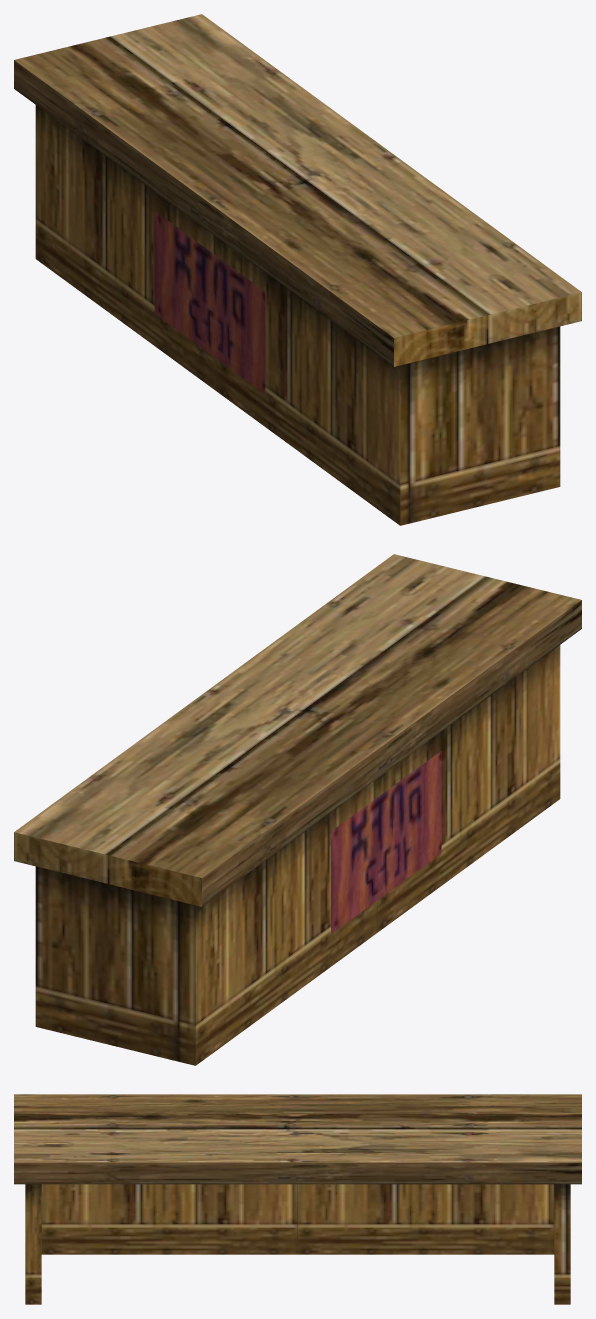
Rendered from MesaCaja.obj.
3 renders of one model, top to bottom at view 1: azimuth 30°, elevation 25°; view 2: azimuth 150°, elevation 25°; view 3: azimuth 270°, elevation 25°, orthographic. The views are drawn at different scales.
Visible parts, largest first — view 1: clocktown_main.002_geom-03D75826.002_material-0392649D, clocktown_main.002_geom-03D75826.002_material-00258989, clocktown_main.002_geom-03D75826.002_material-03DC13CA, clocktown_main.002_geom-03D75826.002_material-0151D5D9; view 2: clocktown_main.002_geom-03D75826.002_material-0392649D, clocktown_main.002_geom-03D75826.002_material-00258989, clocktown_main.002_geom-03D75826.002_material-03DC13CA, clocktown_main.002_geom-03D75826.002_material-0151D5D9; view 3: clocktown_main.002_geom-03D75826.002_material-0392649D, clocktown_main.002_geom-03D75826.002_material-00258989.
Part boxes in pixels (x1,y1,x2,y2): clocktown_main.002_geom-03D75826.002_material-0392649D: (14, 14, 581, 366); clocktown_main.002_geom-03D75826.002_material-00258989: (35, 105, 560, 525); clocktown_main.002_geom-03D75826.002_material-03DC13CA: (154, 211, 265, 394); clocktown_main.002_geom-03D75826.002_material-0151D5D9: (394, 292, 581, 366); clocktown_main.002_geom-03D75826.002_material-0392649D: (14, 554, 581, 906); clocktown_main.002_geom-03D75826.002_material-00258989: (35, 645, 560, 1065); clocktown_main.002_geom-03D75826.002_material-03DC13CA: (331, 751, 441, 933); clocktown_main.002_geom-03D75826.002_material-0151D5D9: (14, 832, 201, 906); clocktown_main.002_geom-03D75826.002_material-0392649D: (14, 1094, 581, 1184); clocktown_main.002_geom-03D75826.002_material-00258989: (25, 1184, 570, 1304).
Bounding box in the file's own units: 0.4 × 0.4 × 1.4.
